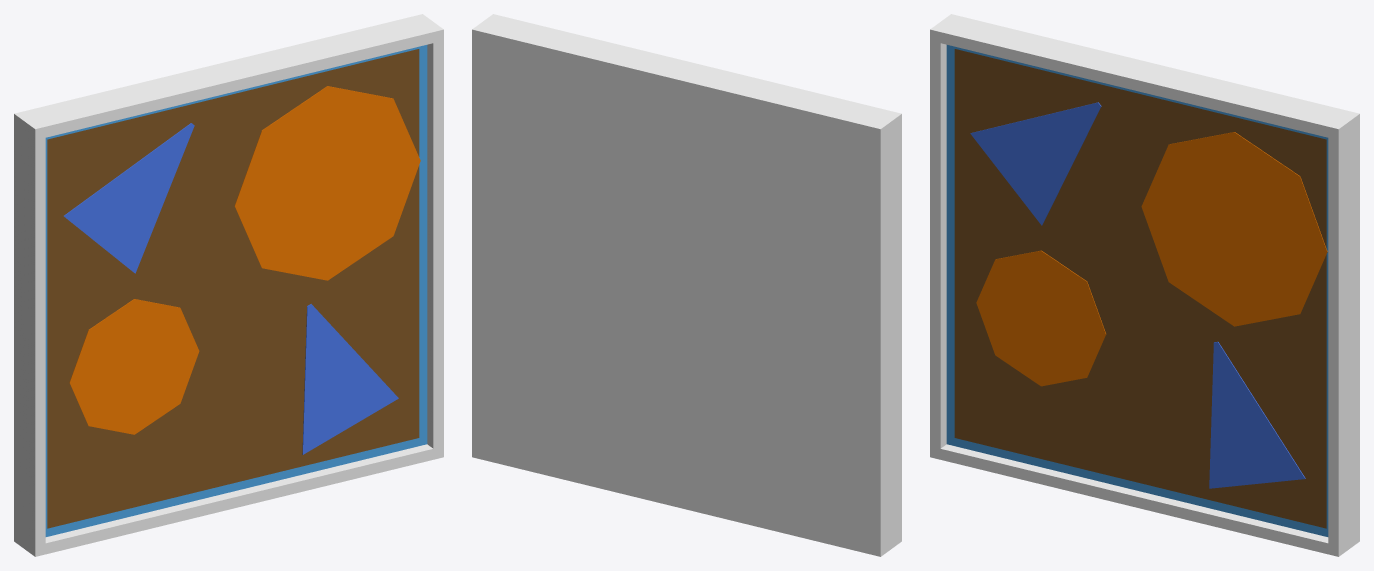
Rendered from Picture Frame_21.fbx.
3 views of the same model, side by side, from view 1: azimuth 30°, elevation 25°; view 2: azimuth 150°, elevation 25°; view 3: azimuth 330°, elevation 25° (orthographic).
Visible parts, largest first — view 1: Picture Frame_21; view 2: Picture Frame_21; view 3: Picture Frame_21.
Boxes of the visible parts, left/top/right/bottom form: Picture Frame_21: left=14, top=14, right=443, bottom=556; Picture Frame_21: left=472, top=14, right=901, bottom=556; Picture Frame_21: left=930, top=14, right=1359, bottom=556.
Bounding box in the file's own units: 0.4279 × 0.4279 × 0.0385.
